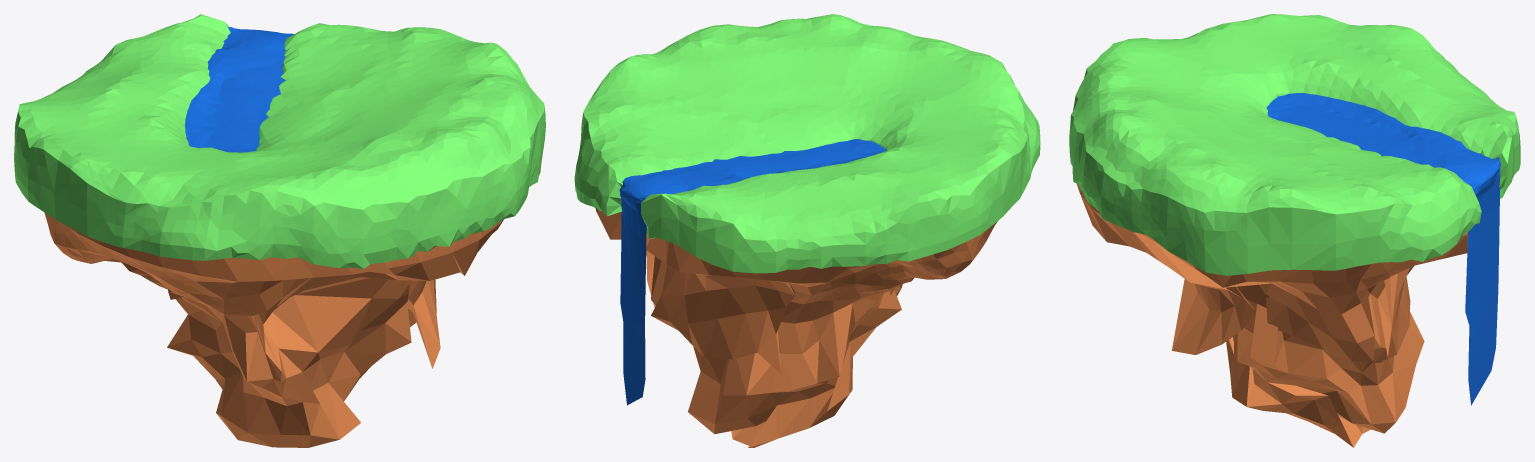
Rendered from Floating Island.glb.
The picture shows the model from 3 angles, left to right: view 1: azimuth 30°, elevation 25°; view 2: azimuth 150°, elevation 25°; view 3: azimuth 270°, elevation 25°; orthographic projection. The views are drawn at different scales.
Visible parts, largest first — view 1: Cylinder; view 2: Cylinder; view 3: Cylinder.
Boxes of the visible parts, x1,y1,x2,y2 form: Cylinder: [14, 14, 545, 447]; Cylinder: [574, 14, 1040, 447]; Cylinder: [1069, 14, 1520, 447].
Size of the model in its own units: 20.78 by 16.96 by 20.47.
